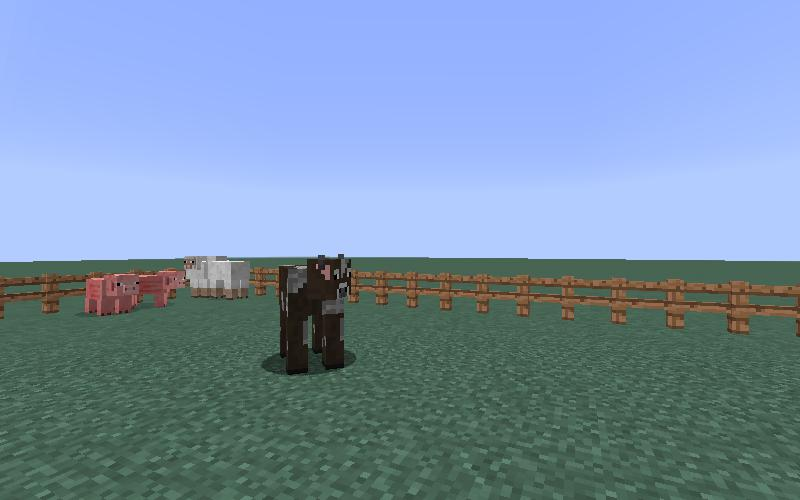cow: (277, 250, 354, 380)
pig: (77, 269, 138, 320), (139, 267, 185, 307)
sheep: (204, 253, 253, 306), (184, 256, 210, 298)
